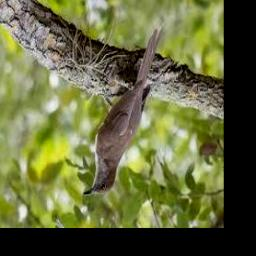Cuckoo: (83, 24, 165, 196)
